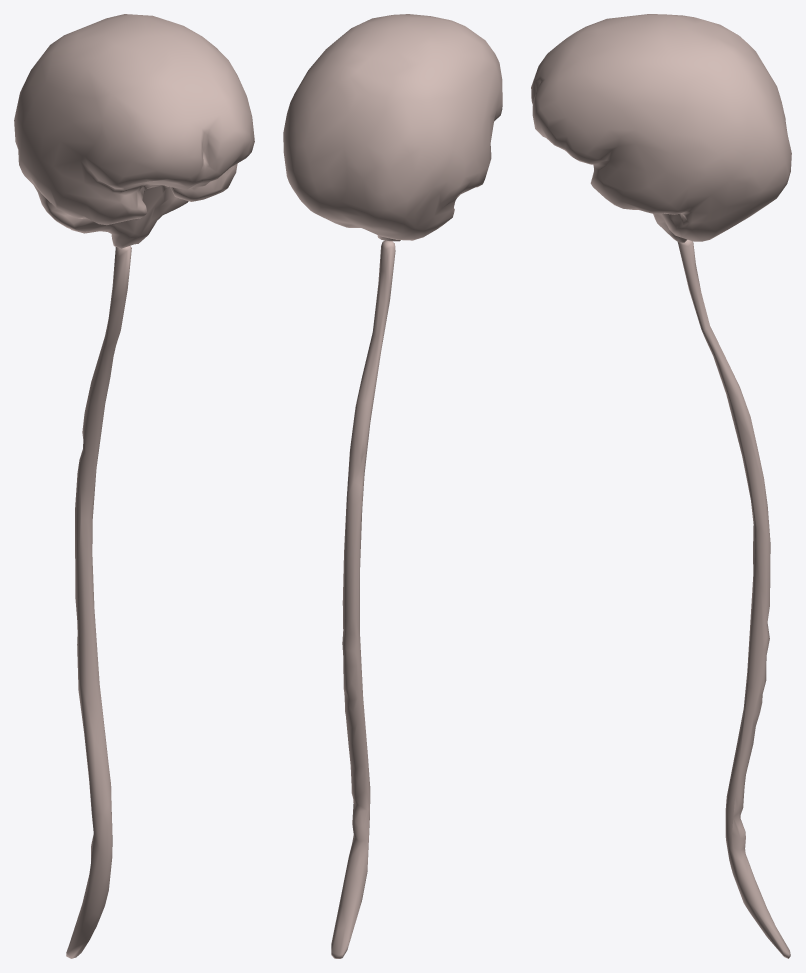
File: pediatric_child_10y_male.nervous.LOD1.glb
3 views of the same model, side by side, from view 1: azimuth 30°, elevation 25°; view 2: azimuth 150°, elevation 25°; view 3: azimuth 270°, elevation 25° (orthographic). The views are drawn at different scales.
Parts seen in each view (by area): view 1: PEDIATRIC.CHILD_10Y.MALE.NERVOUS.BRAIN, PEDIATRIC.CHILD_10Y.MALE.NERVOUS.SPINAL_CORD; view 2: PEDIATRIC.CHILD_10Y.MALE.NERVOUS.BRAIN, PEDIATRIC.CHILD_10Y.MALE.NERVOUS.SPINAL_CORD; view 3: PEDIATRIC.CHILD_10Y.MALE.NERVOUS.BRAIN, PEDIATRIC.CHILD_10Y.MALE.NERVOUS.SPINAL_CORD.
Part boxes in pixels (left/top/right/bottom): PEDIATRIC.CHILD_10Y.MALE.NERVOUS.BRAIN: left=14, top=14, right=254, bottom=248; PEDIATRIC.CHILD_10Y.MALE.NERVOUS.SPINAL_CORD: left=66, top=246, right=131, bottom=958; PEDIATRIC.CHILD_10Y.MALE.NERVOUS.BRAIN: left=283, top=14, right=502, bottom=241; PEDIATRIC.CHILD_10Y.MALE.NERVOUS.SPINAL_CORD: left=331, top=240, right=395, bottom=958; PEDIATRIC.CHILD_10Y.MALE.NERVOUS.BRAIN: left=531, top=14, right=791, bottom=242; PEDIATRIC.CHILD_10Y.MALE.NERVOUS.SPINAL_CORD: left=677, top=239, right=790, bottom=958.
Size of the model in its own units: 0.1324 by 0.64 by 0.1624.
